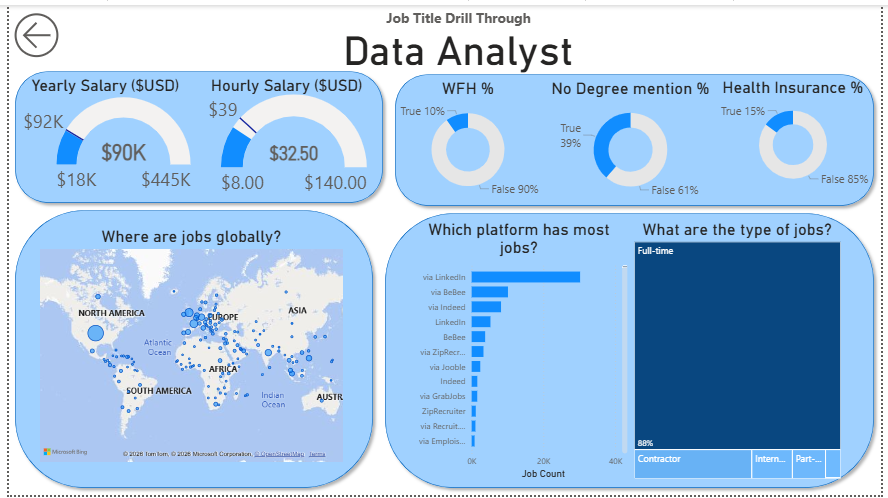

The dashboard page shown, as its layout file describes it:
{"tool":"powerbi","page":{"name":"Job Title Drill Through","canvas":[1280,720],"ordinal":1},"visuals":[{"type":"group","id":"g1","title":"Background","box":[0,88.2,1279.8,630.1],"z":0},{"type":"shape","box":[0,88.2,558.4,211.6],"z":0,"group":"g1"},{"type":"cardVisual","fields":{"Data":["Min(job_postings_flat.job_title_short)1"]},"box":[361.5,0,598,104.3],"z":1000},{"type":"shape","box":[0,292.2,543.7,426.1],"z":1000,"group":"g1"},{"type":"actionButton","box":[0,0,80.8,89.6],"z":2000},{"type":"shape","box":[558.4,92.4,721.5,211.6],"z":2000,"group":"g1"},{"type":"gauge","title":"Yearly Salary ($USD)","fields":{"Y":["Median(job_postings_flat.salary_year_avg)"],"MinValue":["Min(job_postings_flat.salary_year_avg)1"],"MaxValue":["Max(job_postings_flat.salary_year_avg)2"],"TargetValue":["Avg(job_postings_flat.salary_year_avg)3"]},"box":[10.3,104.3,261.6,185.1],"z":3000},{"type":"shape","box":[543.7,296.6,736.2,421.7],"z":3000,"group":"g1"},{"type":"gauge","title":"Hourly Salary ($USD)","fields":{"Y":["Median(job_postings_flat.salary_hour_avg)"],"MinValue":["Min(job_postings_flat.salary_hour_avg)1"],"MaxValue":["Max(job_postings_flat.salary_hour_avg)2"],"TargetValue":["Avg(job_postings_flat.salary_hour_avg)3"]},"box":[271.8,104.3,271.8,185.1],"z":4000},{"type":"donutChart","title":"WFH %","fields":{"Category":["job_postings_flat.job_work_from_home"],"Y":["CountNonNull(job_postings_flat.job_work_from_home)"]},"box":[558.4,108.7,232.2,180.7],"z":5000},{"type":"donutChart","title":"Health Insurance %","fields":{"Category":["job_postings_flat.job_health_insurance"],"Y":["CountNonNull(job_postings_flat.job_work_from_home)"]},"box":[1035.9,107.3,232.2,169],"z":6000},{"type":"donutChart","title":"No Degree mention %","fields":{"Category":["job_postings_flat.job_no_degree_mention"],"Y":["CountNonNull(job_postings_flat.job_work_from_home)"]},"box":[790.5,108.7,245.4,180.7],"z":7000},{"type":"map","title":"Where are jobs globally?","fields":{"Size":["CountNonNull(job_postings_flat.job_title_short)"],"Category":["job_postings_flat.job_country"]},"box":[41.1,326.2,454,349.7],"z":8000},{"type":"treemap","title":"What are the type of jobs?","fields":{"Group":["job_postings_flat.job_schedule_type"],"Values":["CountNonNull(job_postings_flat.job_schedule_type)"]},"box":[914,315.9,313,385],"z":9000},{"type":"barChart","title":"Which platform has most jobs?","fields":{"Category":["job_postings_flat.job_via"],"Y":["CountNonNull(job_postings_flat.job_title_short)"]},"box":[584.8,315.9,329.1,385],"z":10000}]}

Visuals, with their boxes in screenshot pixels (x1, y1, x2, y2), scaled from the page's 1280x720 canvas onto the 888x498 screenshot:
"Background" group: bbox=[0, 61, 887, 497]
shape: bbox=[0, 61, 387, 207]
cardVisual - Min(job_postings_flat.job_title_short)1: bbox=[251, 0, 666, 72]
shape: bbox=[0, 202, 377, 497]
actionButton: bbox=[0, 0, 56, 62]
shape: bbox=[387, 64, 887, 210]
"Yearly Salary ($USD)" gauge: bbox=[7, 72, 189, 200]
shape: bbox=[377, 205, 887, 497]
"Hourly Salary ($USD)" gauge: bbox=[189, 72, 377, 200]
"WFH %" donutChart: bbox=[387, 75, 548, 200]
"Health Insurance %" donutChart: bbox=[719, 74, 880, 191]
"No Degree mention %" donutChart: bbox=[548, 75, 719, 200]
"Where are jobs globally?" map: bbox=[29, 226, 343, 467]
"What are the type of jobs?" treemap: bbox=[634, 218, 851, 485]
"Which platform has most jobs?" barChart: bbox=[406, 218, 634, 485]
